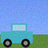vehicle: (1, 24, 33, 47)
